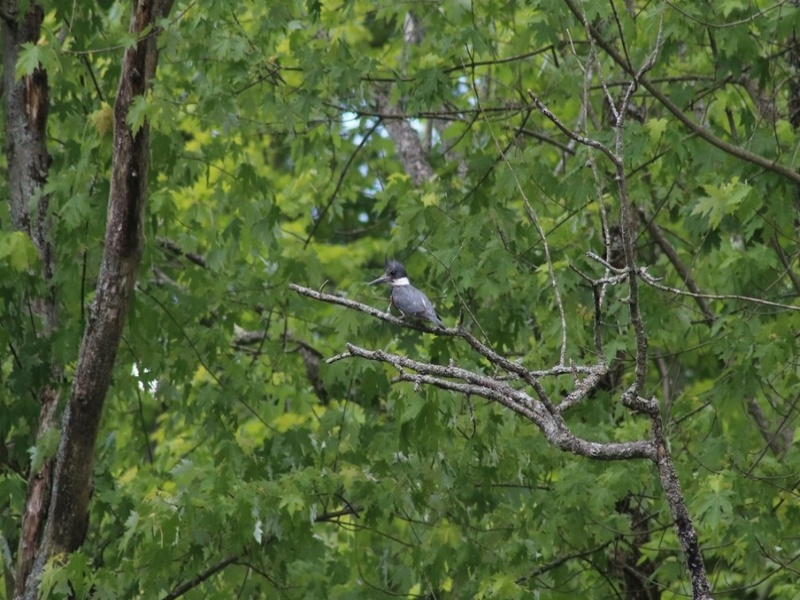kingfisher: (369, 259, 447, 337)
